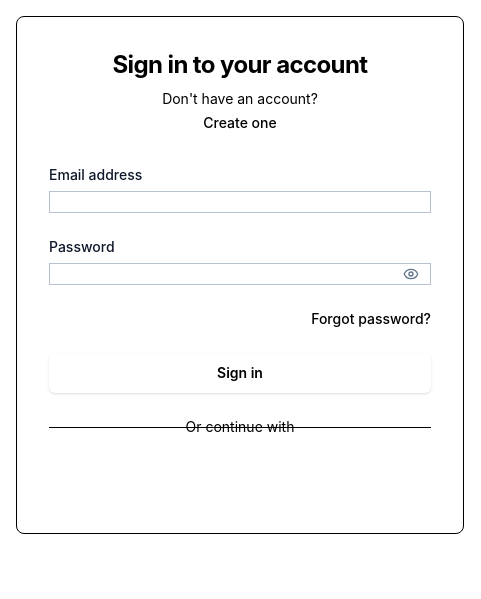
Test: AccountLoginPage › shows inline validation errors on empty submit
This screenshot has width=481, height=599.
Click the button "Sign in" at [240, 373], box [49,353,431,393]
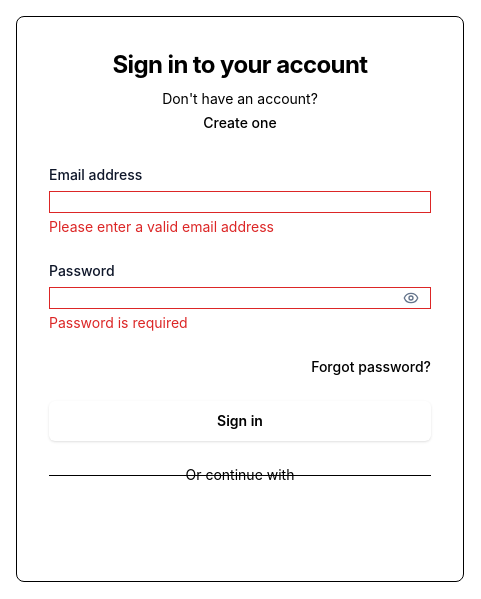
expect the text "Please enter a valid email address" is shown: met, box [49,218,274,235]
expect the text "Password is required" is shown: met, box [49,314,188,331]
